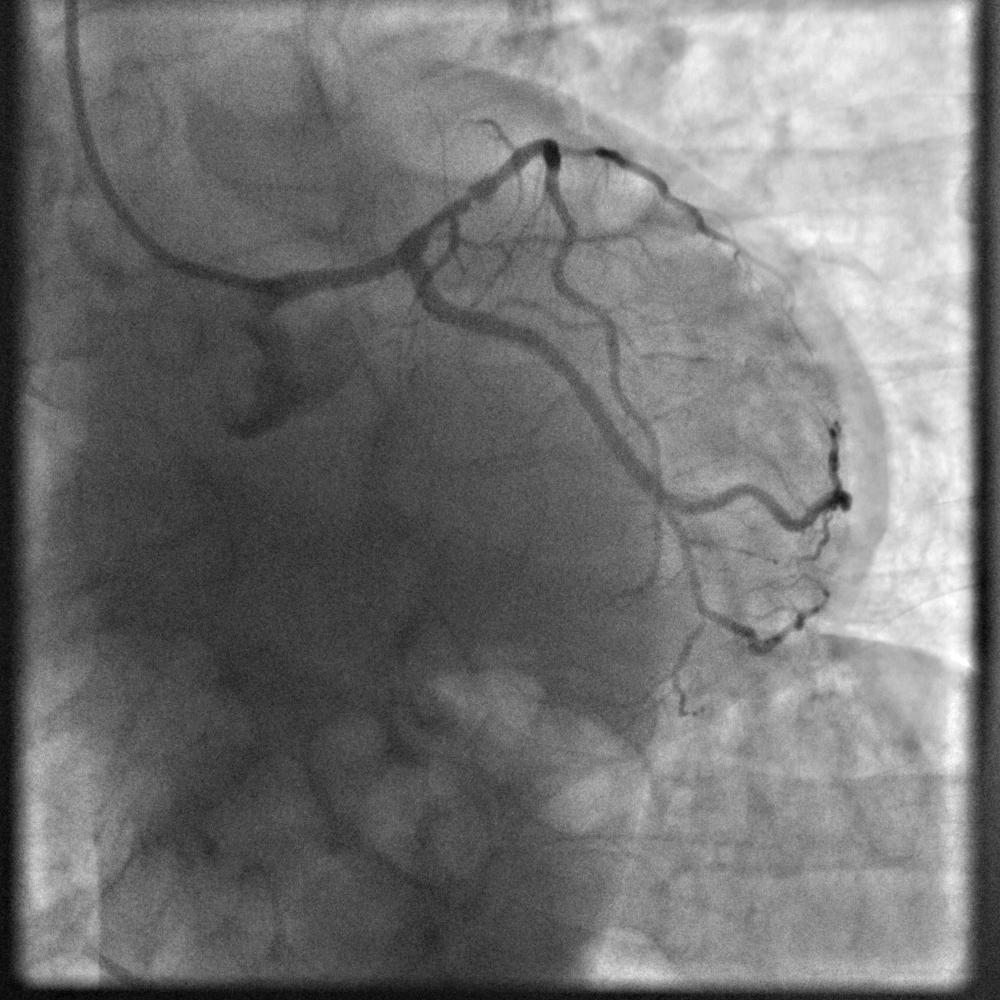Stenosis: (460, 184, 483, 205)
